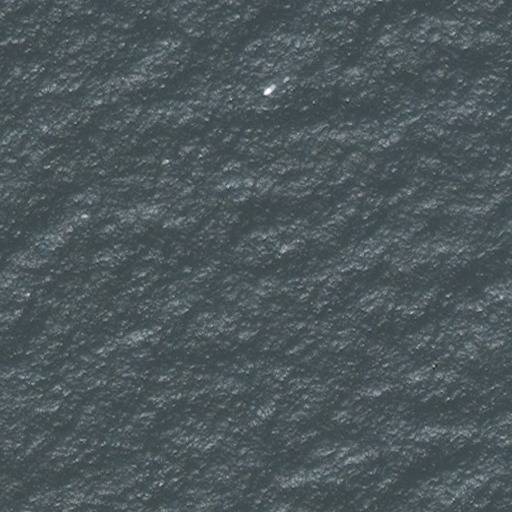ship: (260, 82, 278, 100)
